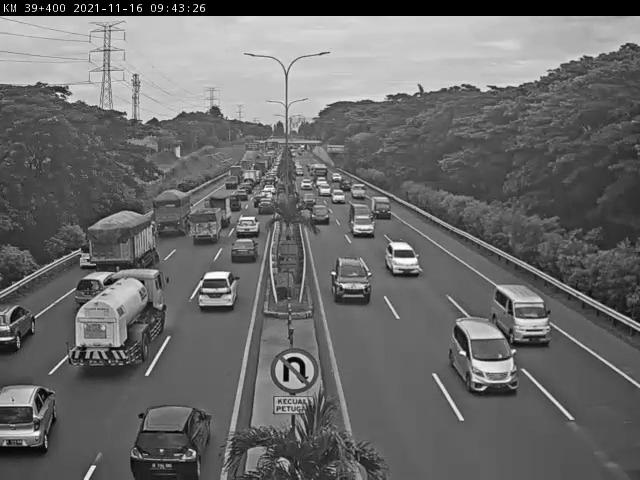car: (124, 395, 216, 480), (443, 315, 528, 403), (484, 275, 559, 353), (0, 378, 68, 457), (0, 289, 42, 359), (193, 263, 243, 317), (73, 271, 123, 311), (331, 255, 373, 302), (385, 241, 423, 280), (226, 237, 262, 268), (228, 214, 270, 238), (76, 241, 101, 272), (348, 202, 377, 224), (309, 201, 332, 228), (254, 193, 279, 217), (370, 197, 396, 220), (350, 215, 374, 237), (350, 183, 373, 201), (329, 186, 350, 205), (301, 192, 321, 207)
truck-l-: (71, 209, 170, 277), (143, 189, 196, 240)
truck-m-: (63, 262, 183, 379), (186, 204, 229, 250), (205, 193, 235, 230)
